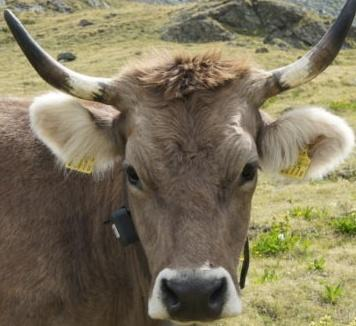muzzles: (142, 266, 248, 326)
